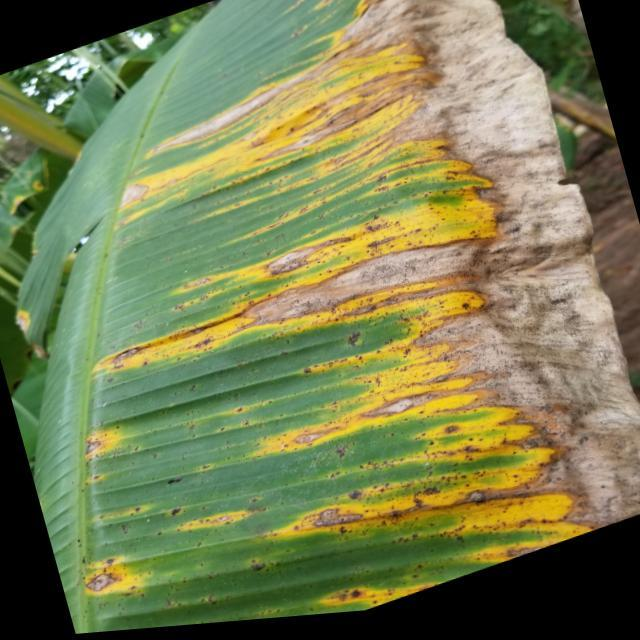Early_rust: (81, 0, 558, 615)
